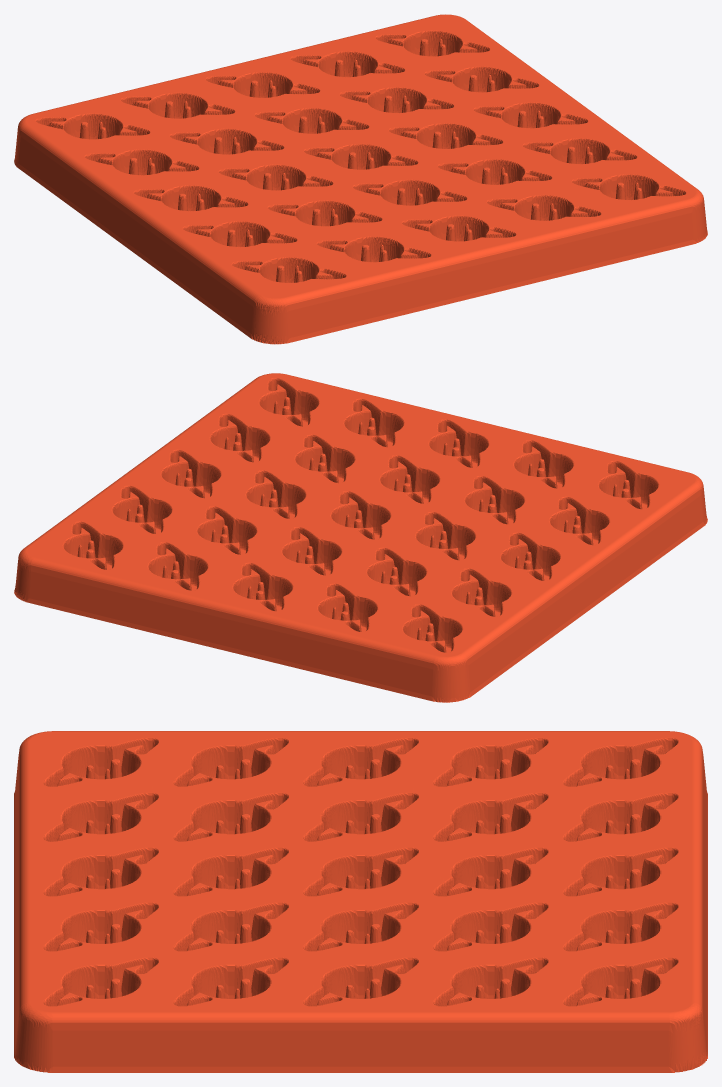
Rendered from mold.glb.
3 renders of one model, top to bottom at view 1: azimuth 30°, elevation 25°; view 2: azimuth 150°, elevation 25°; view 3: azimuth 270°, elevation 25°, orthographic. The views are drawn at different scales.
Parts seen in each view (by area): view 1: geometry_0; view 2: geometry_0; view 3: geometry_0.
Part boxes in pixels (<box>): geometry_0: <box>14,14,707,344</box>; geometry_0: <box>14,373,707,702</box>; geometry_0: <box>14,731,707,1072</box>.
Bounding box in the file's own units: 0.1584 × 0.0136 × 0.1584.
